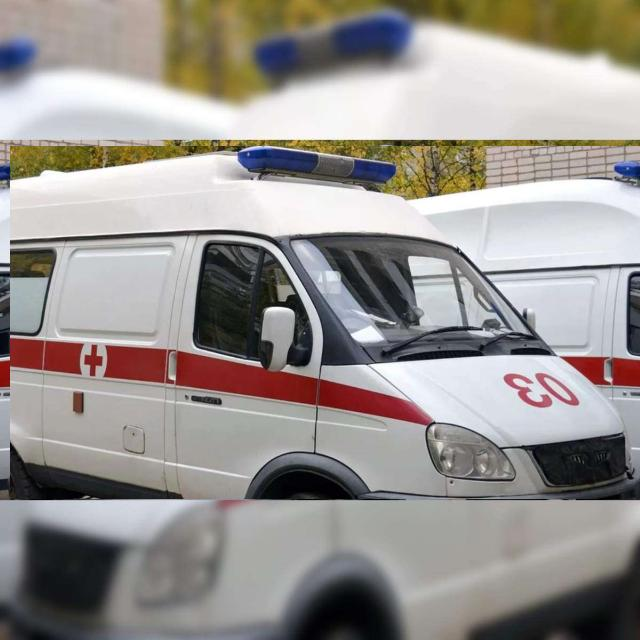emergency: (10, 147, 640, 499)
